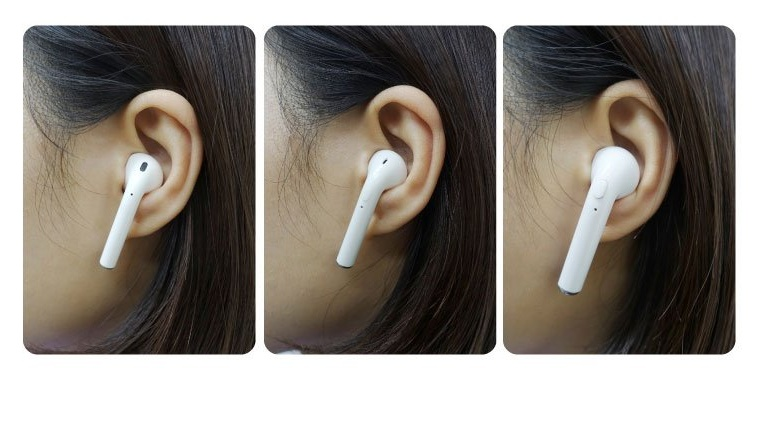earphone: (554, 78, 688, 296), (335, 85, 448, 269), (95, 88, 204, 269)
